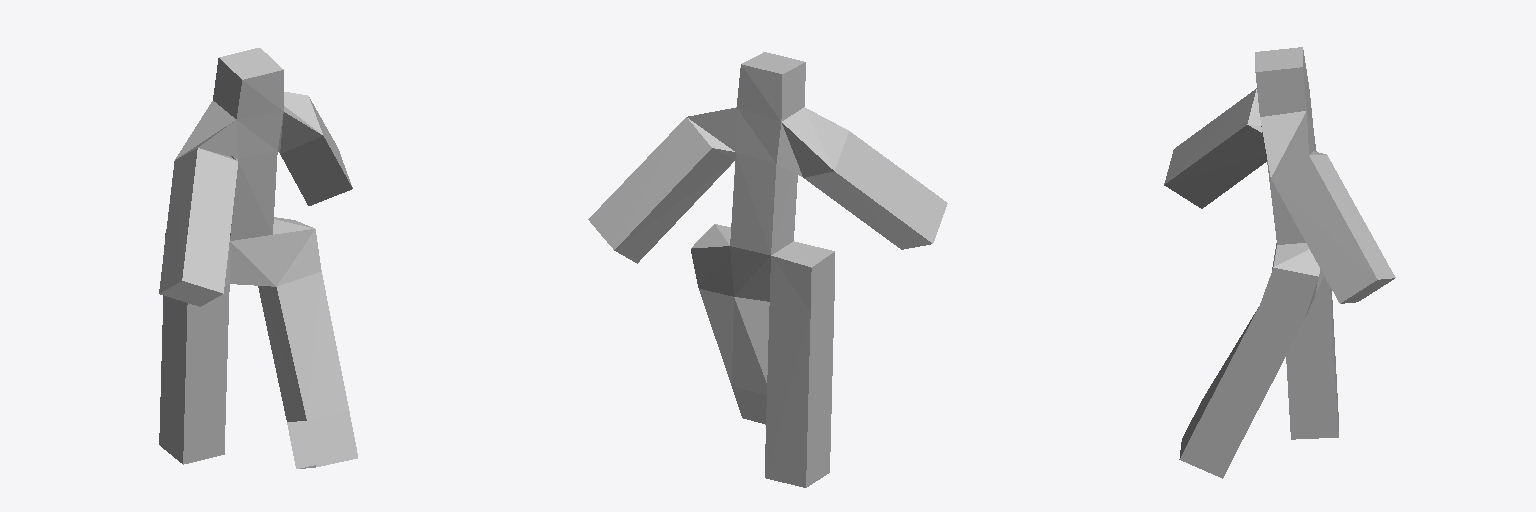
File: cuboid_000012.obj
3 views of the same model, side by side, from view 1: azimuth 30°, elevation 25°; view 2: azimuth 150°, elevation 25°; view 3: azimuth 270°, elevation 25° (orthographic).
Parts seen in each view (by area): view 1: Cube; view 2: Cube; view 3: Cube.
Part boxes in pixels (x1,y1,x2,y2): Cube: (159,48,357,468); Cube: (588,52,947,487); Cube: (1164,47,1395,478).
Bounding box in the file's own units: 3.16 × 4.52 × 2.42.